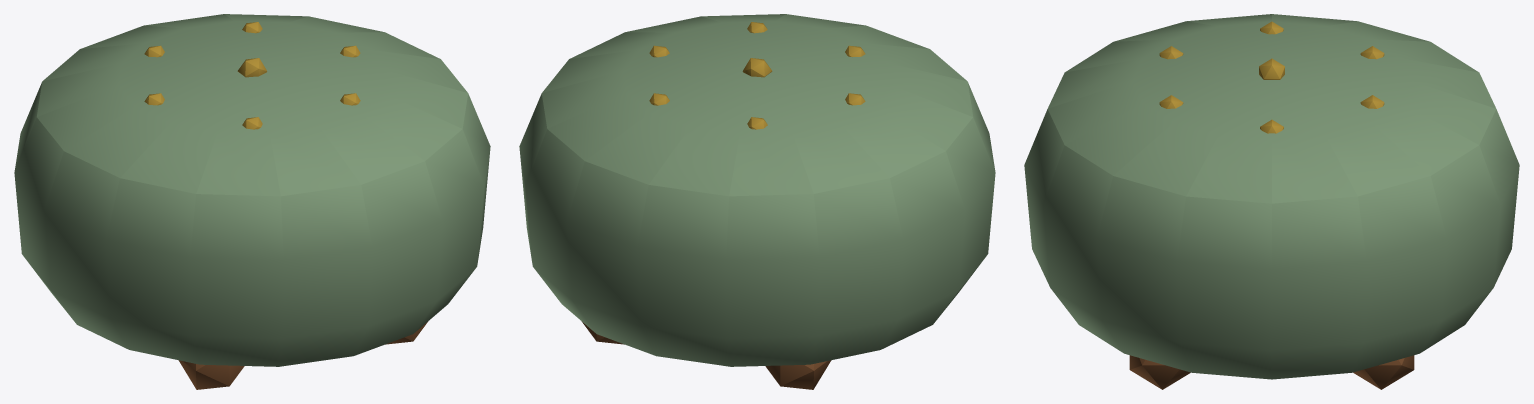
The model's file is footstool.glb.
3 views of the same model, side by side, from view 1: azimuth 30°, elevation 25°; view 2: azimuth 150°, elevation 25°; view 3: azimuth 270°, elevation 25° (orthographic). The views are drawn at different scales.
Visible parts, largest first — view 1: furniture-footstool; view 2: furniture-footstool; view 3: furniture-footstool.
Boxes of the visible parts, box(x1,y1,x2,y2) form: furniture-footstool: box(14, 14, 490, 389); furniture-footstool: box(519, 14, 995, 389); furniture-footstool: box(1024, 14, 1519, 389).
Size of the model in its own units: 0.64 by 0.3896 by 0.64.
